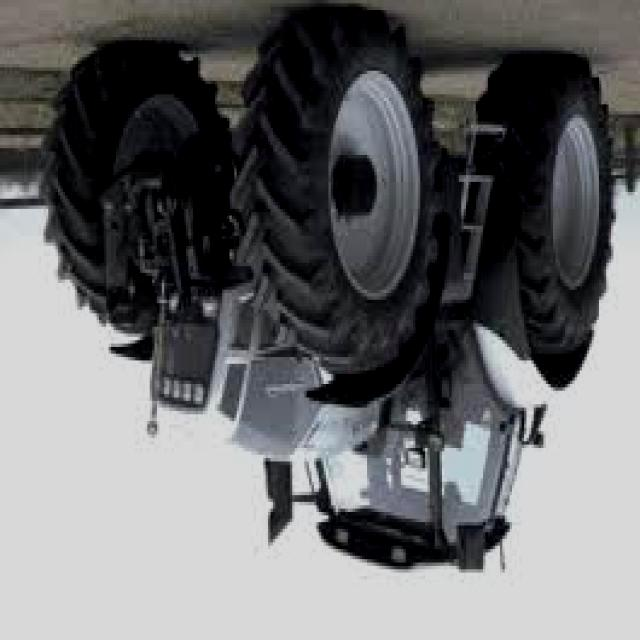Tratores - v5 YOLO V8L 2024-11-13: (43, 3, 613, 574)
